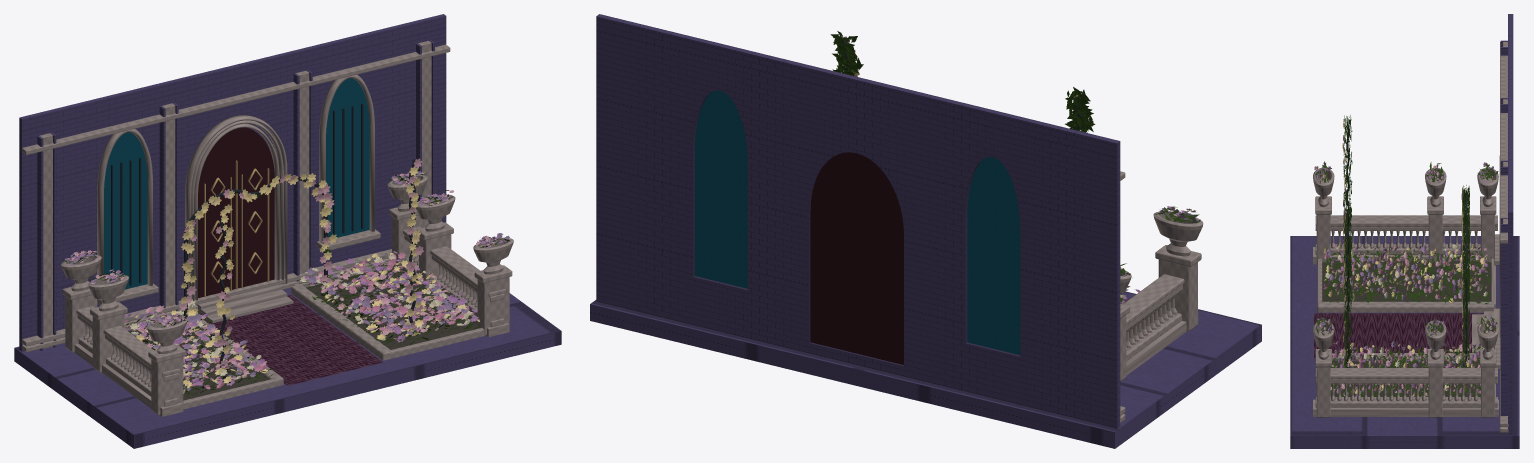
File: Garden_Complete_Textured.glb
3 renders of one model, left to right at view 1: azimuth 30°, elevation 25°; view 2: azimuth 150°, elevation 25°; view 3: azimuth 270°, elevation 25°, orthographic. The views are drawn at different scales.
Parts seen in each view (by area): view 1: Visible_violet_masonry_facade_patch, 推定_有限基础板_闭合底面, Pointed_double_door, Tall_cyan_leaded_window.001, Tall_cyan_leaded_window, Facade_horizontal_cornice.002, Beds_and_urn_planting_leaf, Flowerbed_earth.001, Beds_and_urn_planting_purple, Beds_and_urn_planting_blue, Beds_and_urn_planting_pink, Stone_vertical_pilaster.001 (+49 smaller); view 2: Visible_violet_masonry_facade_patch, 推定_有限基础板_闭合底面, Pointed_double_door, Tall_cyan_leaded_window.001, Tall_cyan_leaded_window, 04_Near_Rose_Uprights_leaf, Urn_square_pedestal, Classical_flower_urn, Stone_balustrade_rail.002, 推定_侧栏连续承托基座; view 3: 推定_有限基础板_闭合底面, Beds_and_urn_planting_leaf, Flowerbed_earth, Visible_violet_masonry_facade_patch, Low_flowerbed_stone_edge, Stone_balustrade_rail.005, 04_Near_Rose_Uprights_leaf, Stone_balustrade_rail.002, Beds_and_urn_planting_pink, 推定_侧栏连续承托基座.001, Beds_and_urn_planting_purple, Pilaster_edge_flute.007 (+31 smaller).
Boxes of the visible parts, left/top/right/bottom form: Visible_violet_masonry_facade_patch: left=19, top=14, right=446, bottom=351; 推定_有限基础板_闭合底面: left=14, top=288, right=561, bottom=448; Pointed_double_door: left=198, top=127, right=274, bottom=297; Tall_cyan_leaded_window.001: left=326, top=78, right=369, bottom=237; Tall_cyan_leaded_window: left=104, top=132, right=147, bottom=289; Facade_horizontal_cornice.002: left=21, top=44, right=450, bottom=155; Beds_and_urn_planting_leaf: left=62, top=173, right=509, bottom=396; Flowerbed_earth.001: left=306, top=266, right=477, bottom=349; Beds_and_urn_planting_purple: left=64, top=172, right=508, bottom=387; Beds_and_urn_planting_blue: left=66, top=171, right=509, bottom=391; Beds_and_urn_planting_pink: left=71, top=172, right=497, bottom=380; Stone_vertical_pilaster.001: left=162, top=103, right=175, bottom=306; Visible_violet_masonry_facade_patch: left=596, top=14, right=1120, bottom=428; 推定_有限基础板_闭合底面: left=590, top=291, right=1261, bottom=448; Pointed_double_door: left=810, top=152, right=903, bottom=364; Tall_cyan_leaded_window.001: left=694, top=90, right=747, bottom=288; Tall_cyan_leaded_window: left=967, top=157, right=1020, bottom=354; 04_Near_Rose_Uprights_leaf: left=830, top=31, right=1095, bottom=132; Urn_square_pedestal: left=1158, top=259, right=1197, bottom=331; Classical_flower_urn: left=1153, top=211, right=1203, bottom=256; Stone_balustrade_rail.002: left=1123, top=274, right=1184, bottom=325; 推定_侧栏连续承托基座: left=1126, top=314, right=1198, bottom=375; 推定_有限基础板_闭合底面: left=1290, top=236, right=1519, bottom=448; Beds_and_urn_planting_leaf: left=1314, top=161, right=1498, bottom=396; Flowerbed_earth: left=1322, top=261, right=1491, bottom=301; Visible_violet_masonry_facade_patch: left=1508, top=14, right=1513, bottom=434; Low_flowerbed_stone_edge: left=1317, top=301, right=1494, bottom=312; Stone_balustrade_rail.005: left=1315, top=368, right=1497, bottom=379; 04_Near_Rose_Uprights_leaf: left=1343, top=115, right=1352, bottom=367; Stone_balustrade_rail.002: left=1315, top=215, right=1497, bottom=226; Beds_and_urn_planting_pink: left=1314, top=164, right=1497, bottom=395; 推定_侧栏连续承托基座.001: left=1313, top=399, right=1498, bottom=416; Beds_and_urn_planting_purple: left=1315, top=162, right=1496, bottom=396; Pilaster_edge_flute.007: left=1500, top=224, right=1507, bottom=415.
Size of the model in its own units: 13.1 by 7.2 by 6.35.
15 materials, 6 textured.
